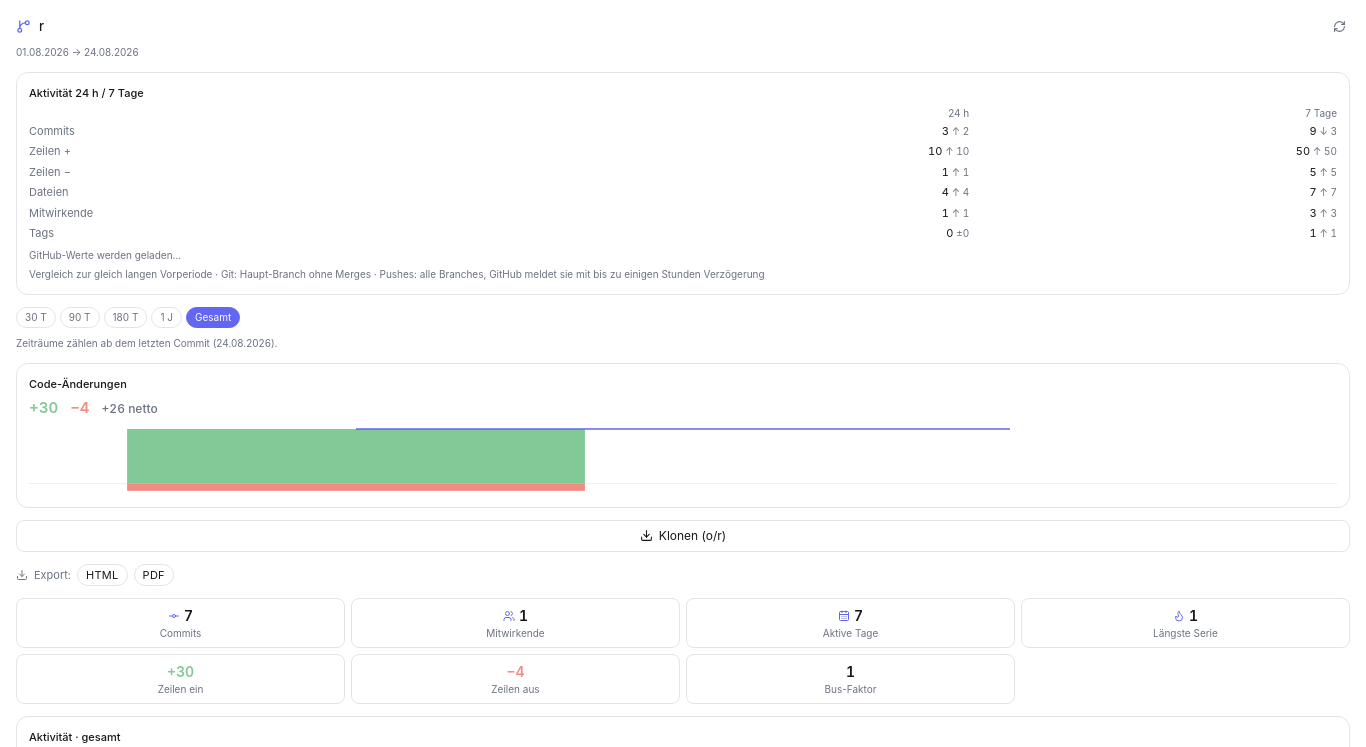
Test case: RepoPanel › starts on 'Gesamt' and switches ranges without re-analysing
Expected: the text "7" is shown, 1309,185 -> 1316,199
Click the button "90 T". click: (80, 317)
box: 60,306 -> 100,328
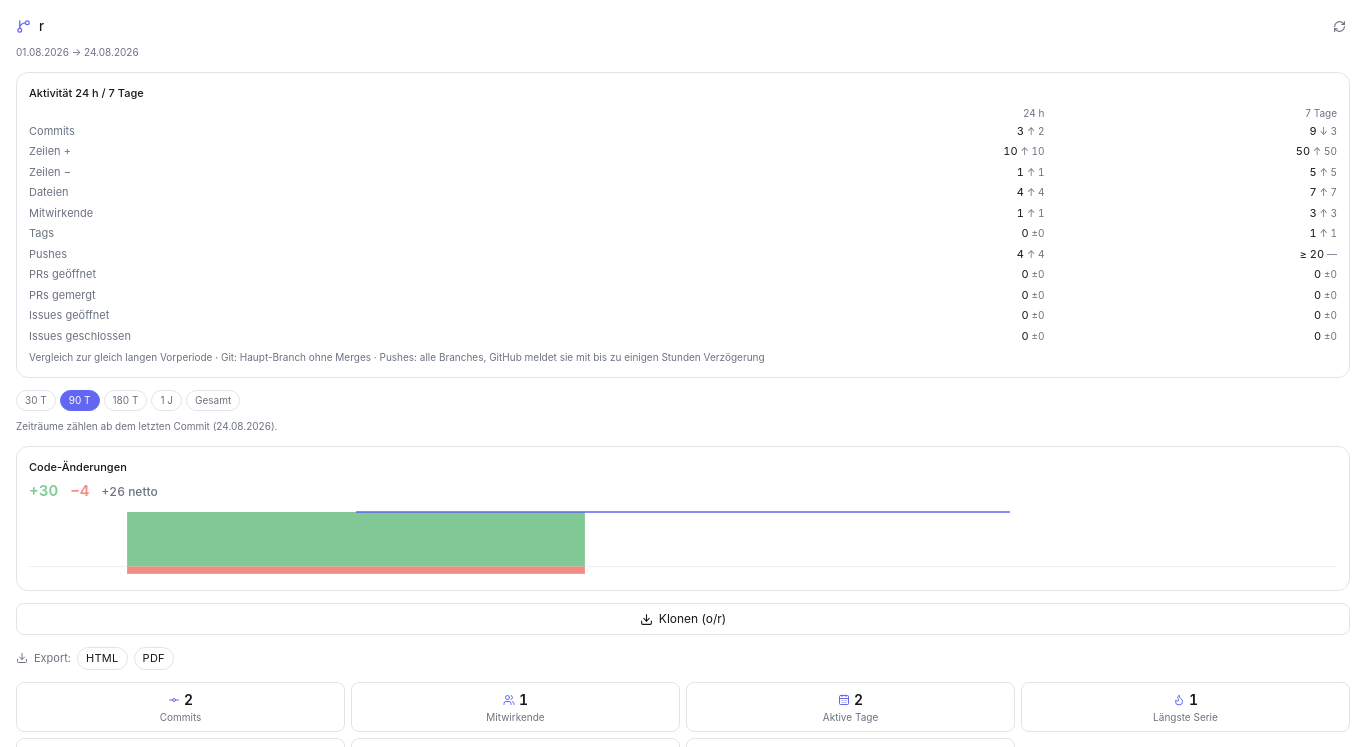
Now the text "2" is shown, box 168,690 -> 193,708
